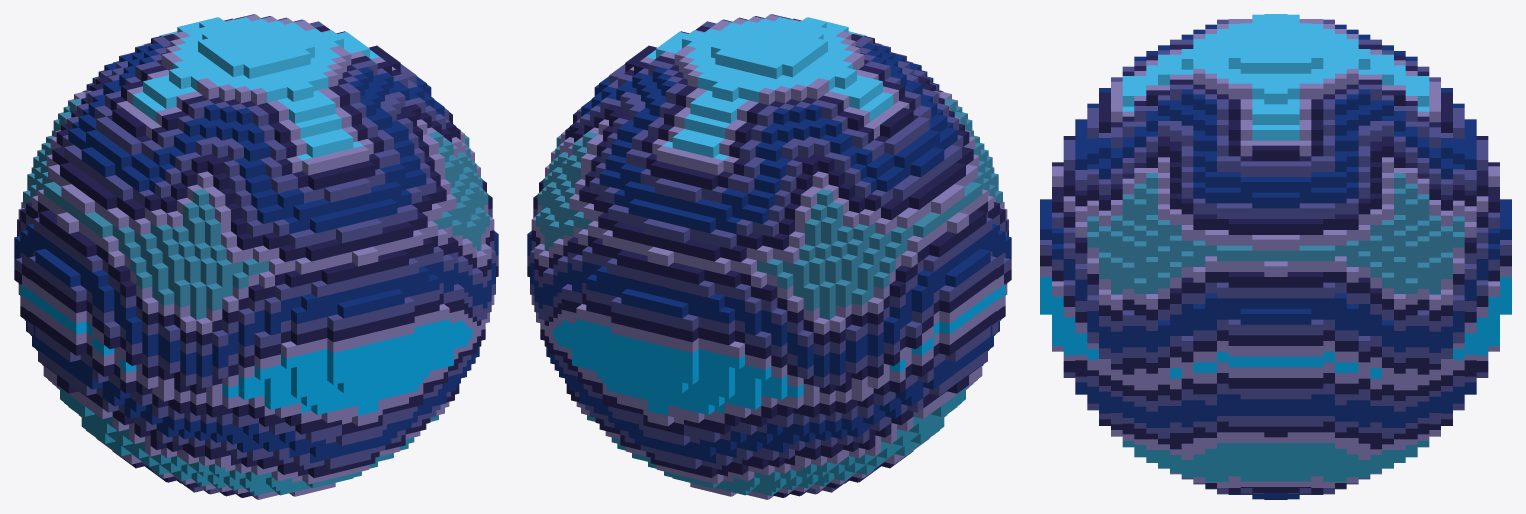
Rendered from ничто и сразу все.obj.
The picture shows the model from 3 angles, left to right: view 1: azimuth 30°, elevation 25°; view 2: azimuth 150°, elevation 25°; view 3: azimuth 270°, elevation 25°; orthographic projection.
Bounding box in the file's own units: 4 × 4 × 4.
1 material, 1 textured.
